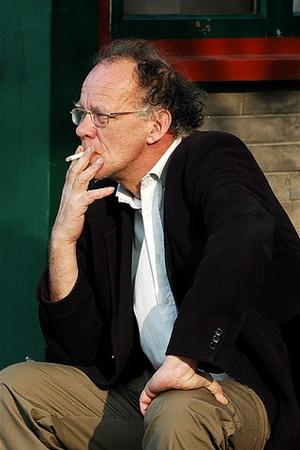person: (38, 39, 300, 450)
